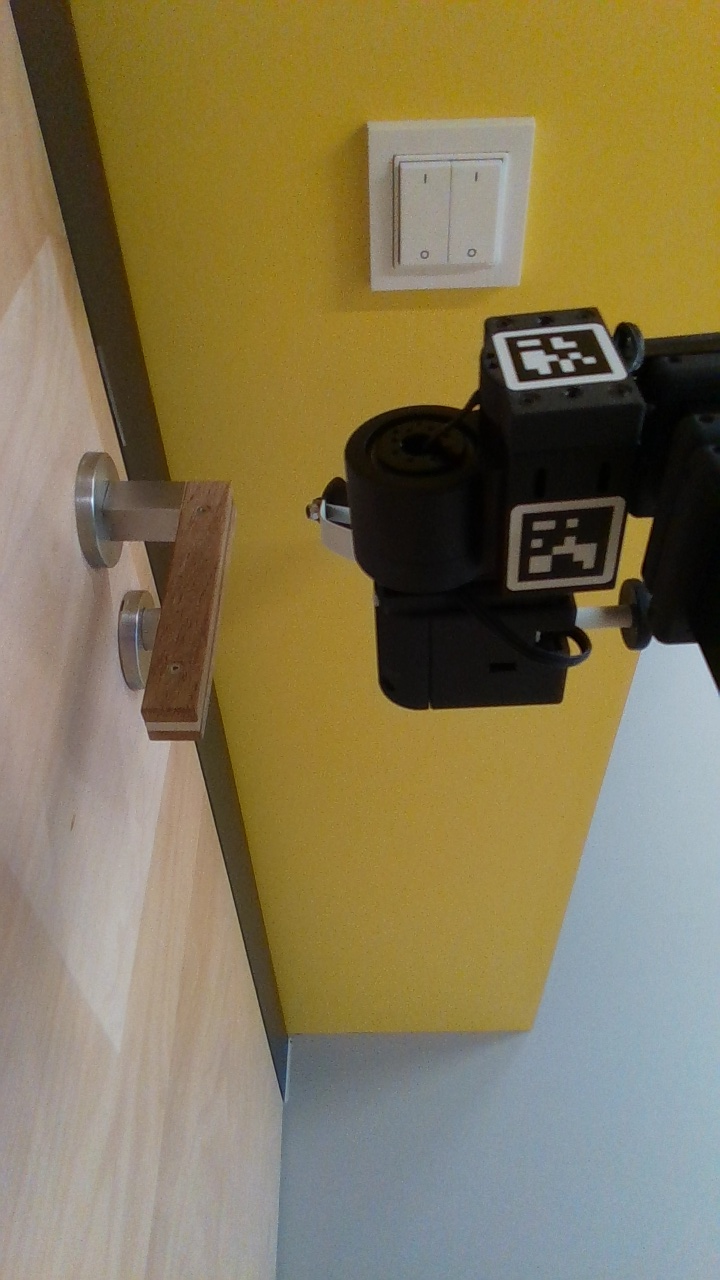Light_Switch: (370, 132, 526, 284)
